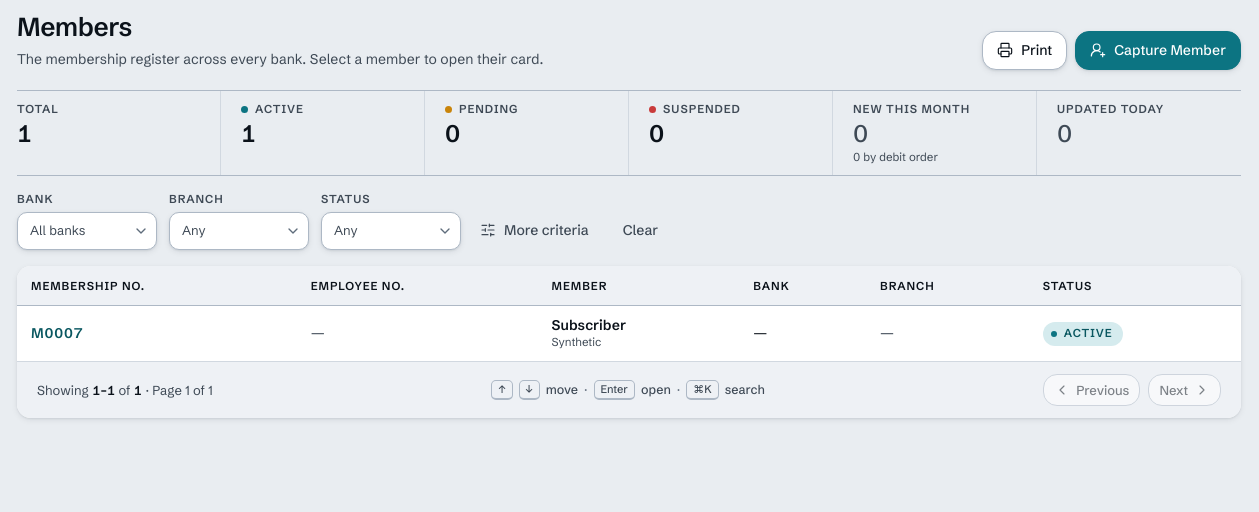
Members › ③ the empty register › the must-pass: with a criterion set, it offers Clear
Expected: the button named "open the record for" is shown, left=31, top=323, right=84, bottom=344
Click the dropdown labelled "Status" at (391, 231), box left=321, top=212, right=461, bottom=250
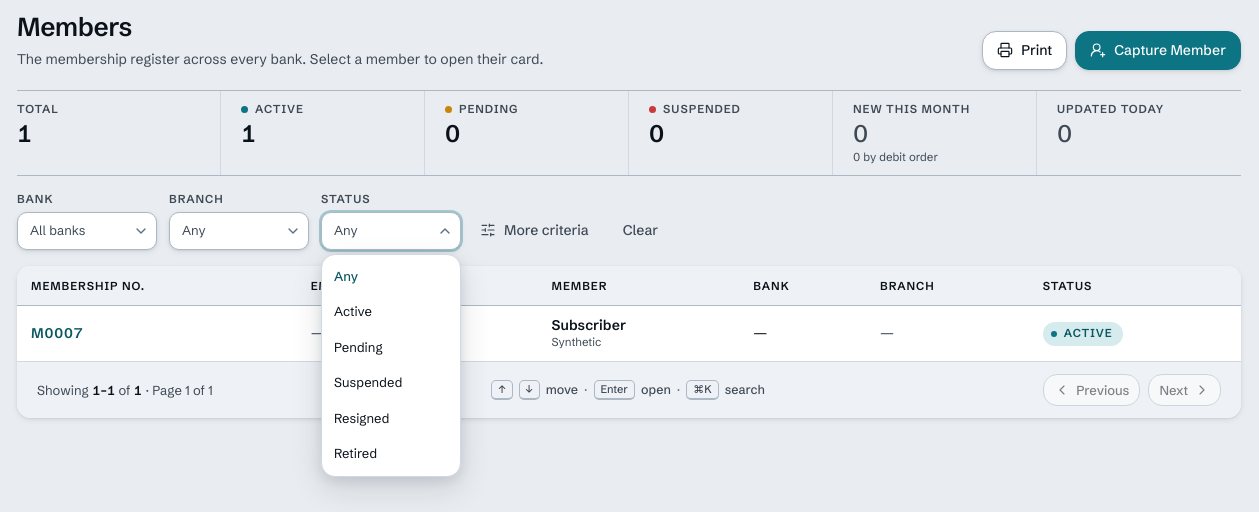
Click the option "Suspended" at (368, 382), box left=334, top=374, right=402, bottom=390
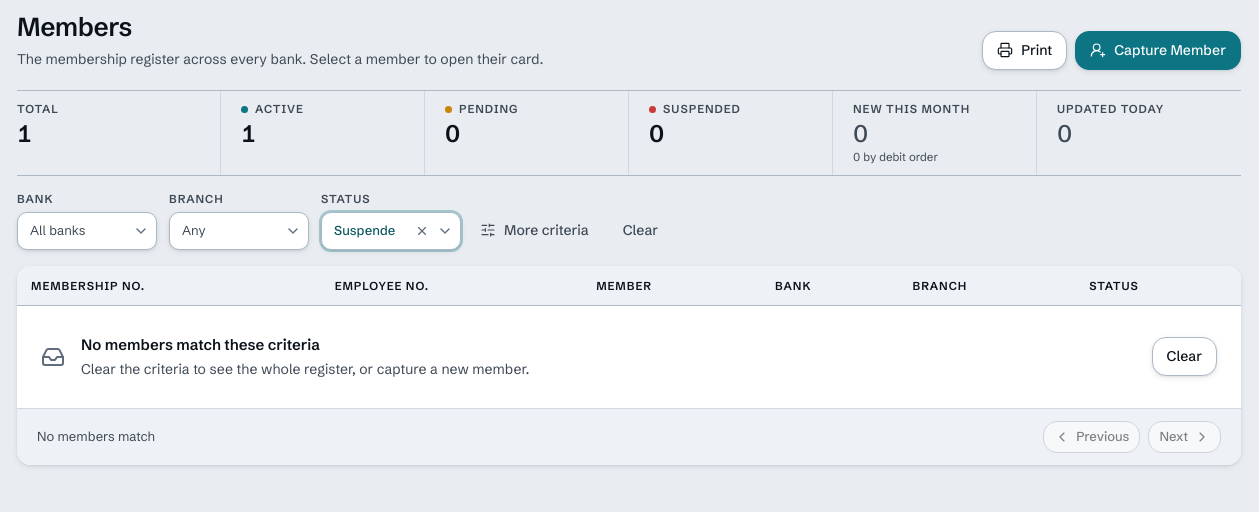
Result: the button "Clear" in the row of "No members match these criteria" is shown at left=1152, top=337, right=1217, bottom=376
